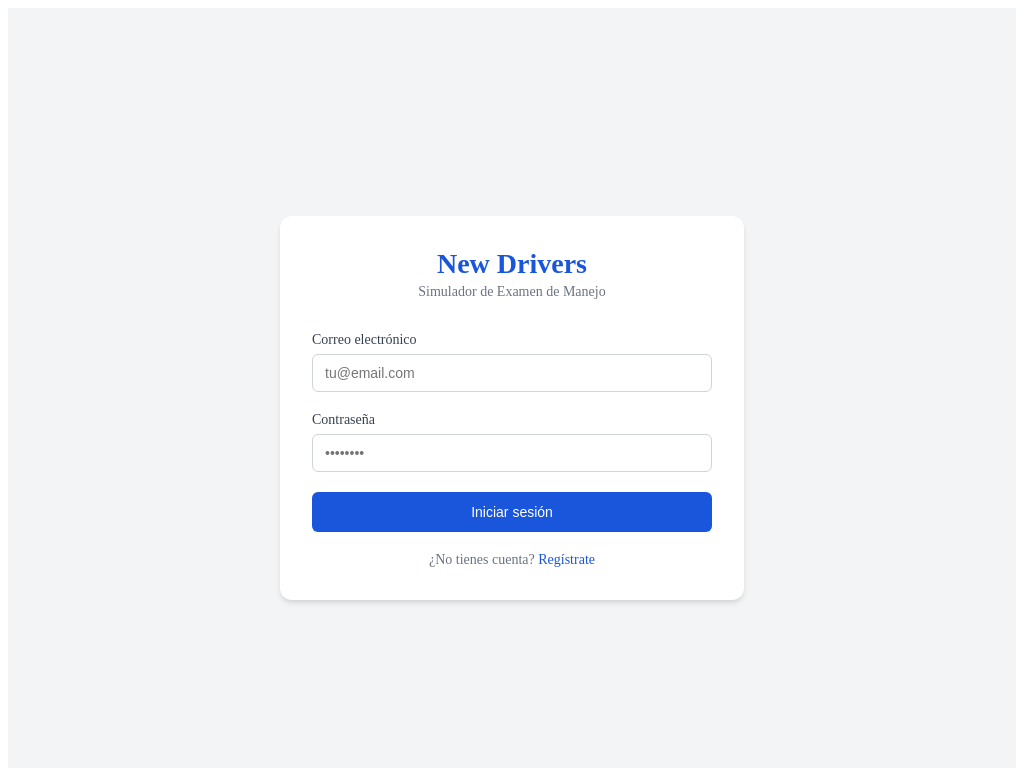
Test: Login page – form validation › displays server error returned by the login composable
The width and height of the screenshot is (1024, 768).
Type "user@example.com" into the field with id "email" at [512, 373], box 312,354 -> 712,392
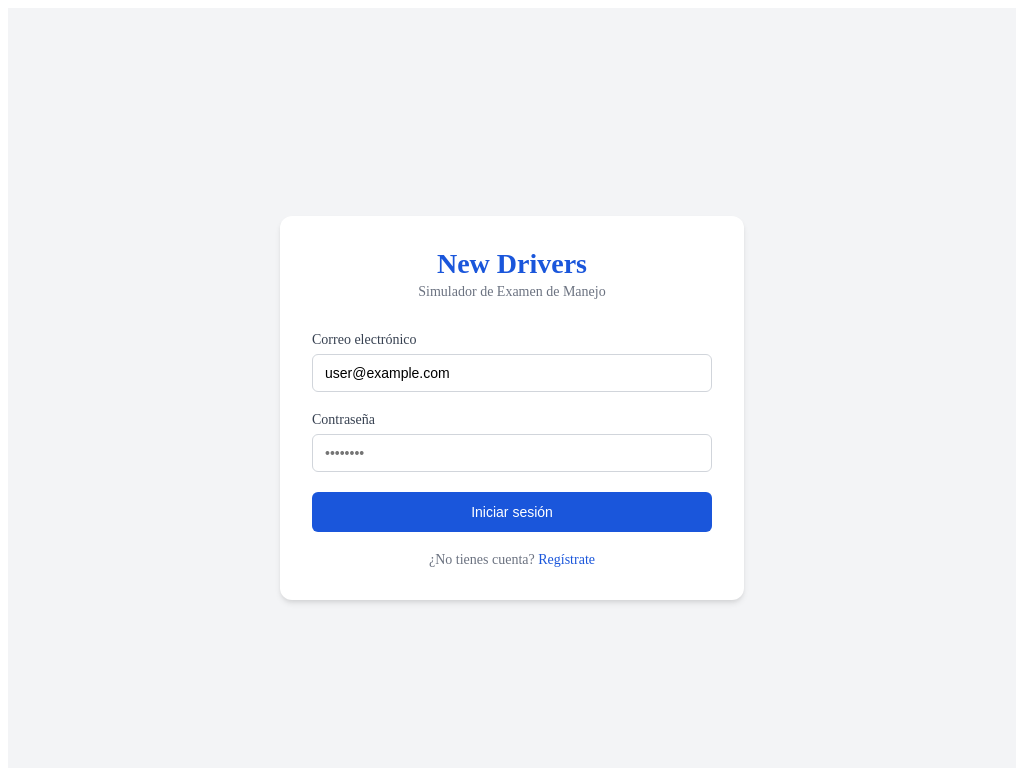
Type "validpassword123" into the password field labelled "Contraseña" at [512, 453], box 312,434 -> 712,472
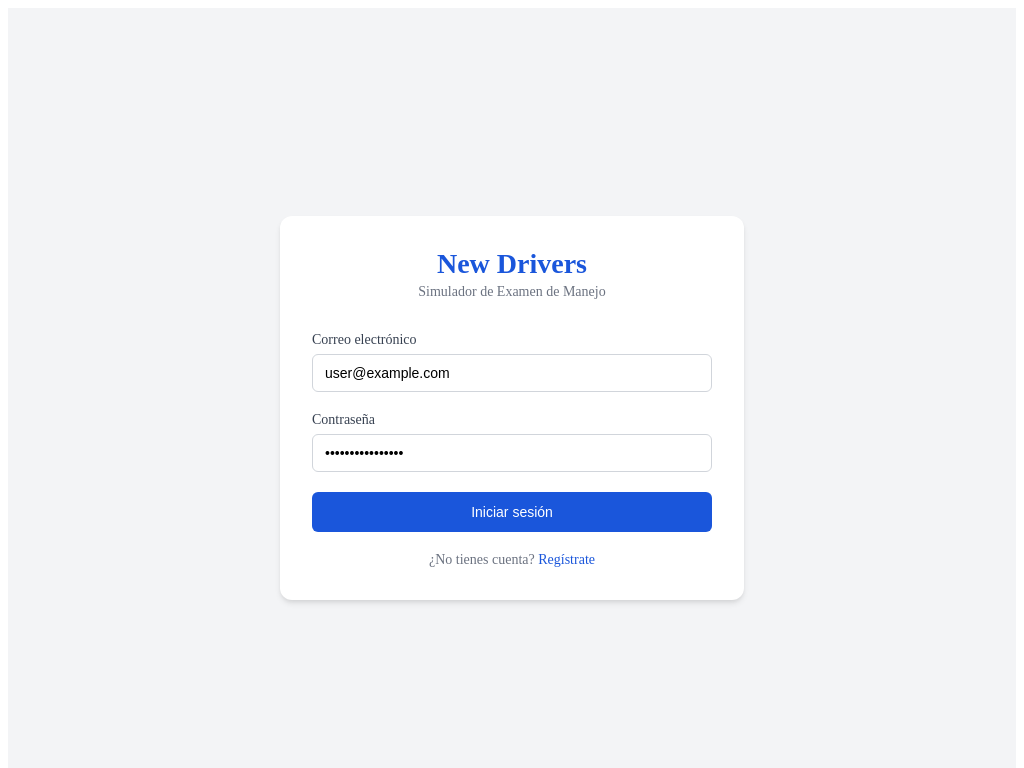
Submit the form, box 312,332 -> 712,532
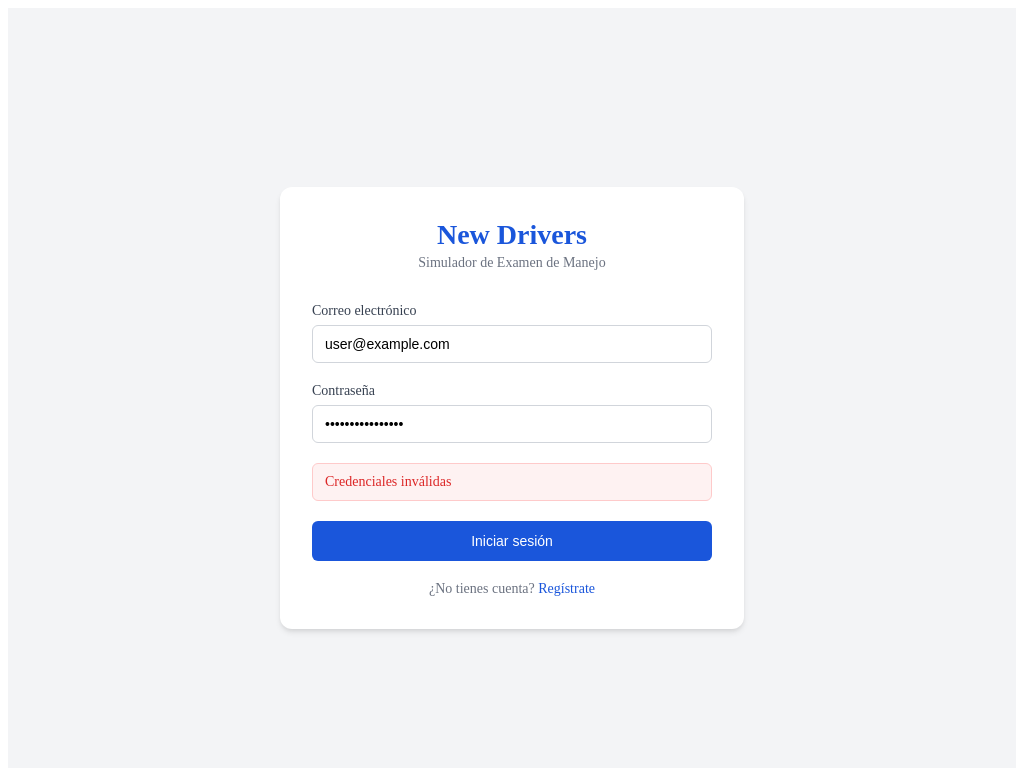
Now the text "Credenciales inválidas" is shown, box 312,463 -> 712,501
Now the text with class "form-error" reads "Credenciales inválidas", box 325,474 -> 451,489
